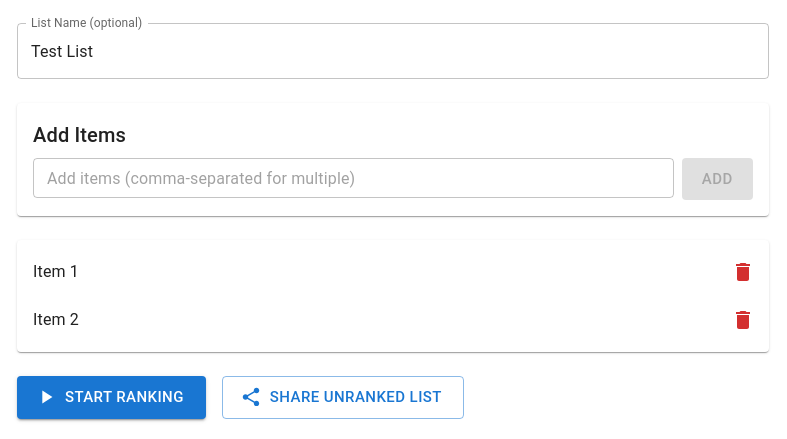
Test case: CurrentListView › Deleting Items › deletes item when delete button clicked
The width and height of the screenshot is (787, 439).
Check: the text "Item 1" is shown, box [33,262,79,281]
Click the button without text in the row of "Item 1".
click(743, 272)  # box [721,250,765,294]
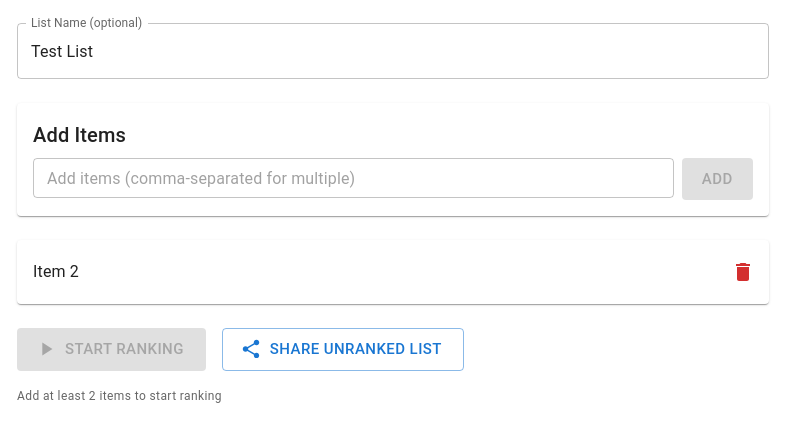
Check: the text "Item 1" is gone
